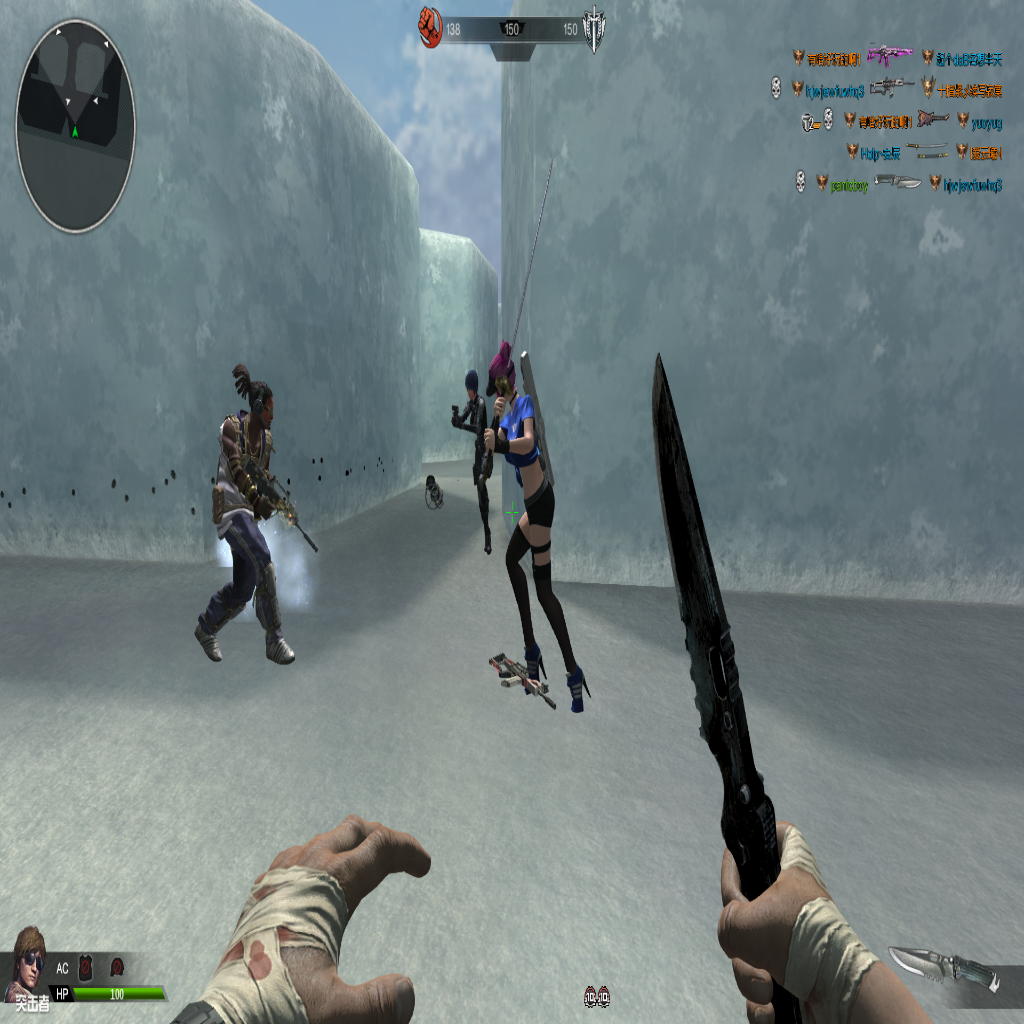tt: (477, 338, 577, 705)
